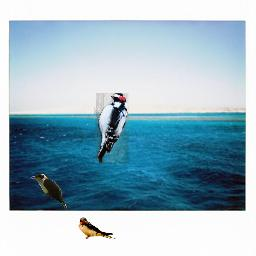Cuckoo: (30, 174, 67, 211)
Swallow: (78, 217, 117, 241)
Woodpecker: (94, 93, 129, 163)
